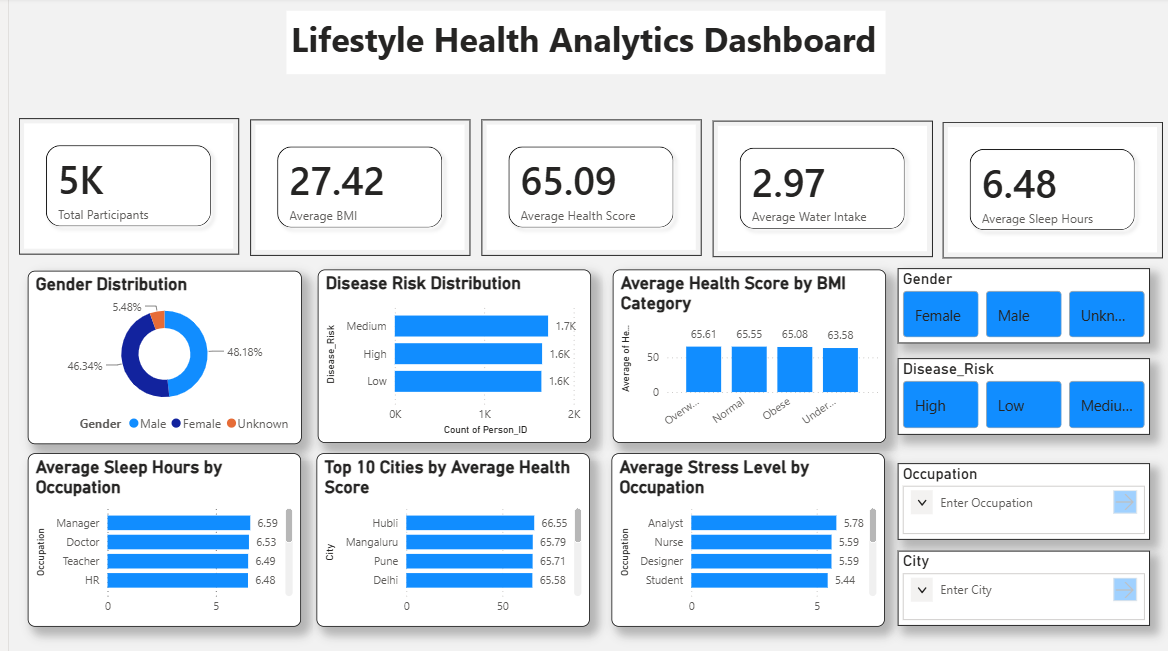

The page's visual inventory and layout, read from the dashboard file:
{"tool":"powerbi","page":{"name":"Executive Dashboard","canvas":[1280,720],"ordinal":0},"visuals":[{"type":"cardVisual","title":"Total Participants","fields":{"Data":["lifestyle_health chat.Total Participants"]},"box":[11,133.1,241.5,149.6],"z":0},{"type":"cardVisual","title":"Total Participants","fields":{"Data":["lifestyle_health chat.Average BMI"]},"box":[264.8,134.5,241.5,149.6],"z":1000},{"type":"cardVisual","title":"Total Participants","fields":{"Data":["lifestyle_health chat.Average Health Score"]},"box":[518.7,134.5,241.5,149.6],"z":2000},{"type":"cardVisual","title":"Total Participants","fields":{"Data":["lifestyle_health chat.Average Water Intake"]},"box":[772.6,135.8,241.5,149.6],"z":3000},{"type":"cardVisual","title":"Total Participants","fields":{"Data":["lifestyle_health chat.Average Sleep Hours"]},"box":[1025,137.2,241.5,149.6],"z":4000},{"type":"donutChart","title":"Gender Distribution","fields":{"Category":["lifestyle_health chat.Gender"],"Y":["CountNonNull(lifestyle_health chat.Gender)"]},"box":[20.6,300.5,300.5,190.7],"z":5000},{"type":"clusteredBarChart","title":"Disease Risk Distribution","fields":{"Category":["lifestyle_health chat.Disease_Risk"],"Y":["CountNonNull(lifestyle_health chat.Person_ID)"]},"box":[338.9,299.1,300,190.7],"z":6000},{"type":"clusteredColumnChart","title":"Average Health Score by BMI Category","fields":{"Category":["lifestyle_health chat.BMI_Category"],"Y":["Avg(lifestyle_health chat.Health_Score)"]},"box":[662.8,299.1,300,190.7],"z":7000},{"type":"clusteredBarChart","title":"Average Sleep Hours by Occupation","fields":{"Category":["lifestyle_health chat.Occupation"],"Y":["Avg(lifestyle_health chat.Sleep_Hours)"]},"box":[20.6,500.9,300,190],"z":8000},{"type":"clusteredBarChart","title":"Top 10 Cities by Average Health Score","fields":{"Category":["lifestyle_health chat.City"],"Y":["Avg(lifestyle_health chat.Health_Score)"]},"box":[338.9,500.9,300,190],"z":9000},{"type":"clusteredBarChart","title":"Average Stress Level by Occupation","fields":{"Category":["lifestyle_health chat.Occupation"],"Y":["Avg(lifestyle_health chat.Stress_Level)"]},"box":[661.4,500.9,300,190],"z":10000},{"type":"textbox","box":[304.6,15.1,657.3,70],"z":11000},{"type":"advancedSlicerVisual","fields":{"Values":["lifestyle_health chat.Gender"]},"box":[975.6,297.8,277.2,82.3],"z":12000},{"type":"advancedSlicerVisual","fields":{"Values":["lifestyle_health chat.Disease_Risk"]},"box":[975.6,396.6,277.2,83.7],"z":13000},{"type":"textSlicer","fields":{"Values":["lifestyle_health chat.Occupation"]},"box":[975.6,511.8,277.2,83.7],"z":14000},{"type":"textSlicer","fields":{"Values":["lifestyle_health chat.City"]},"box":[975.6,607.9,277.2,82.3],"z":15000}]}

Visuals, with their boxes in screenshot pixels (x1, y1, x2, y2), scaled from the page's 1280x720 canvas onto the 1168x651 screenshot:
"Total Participants" cardVisual: locate(10, 120, 230, 256)
"Total Participants" cardVisual: locate(242, 122, 462, 257)
"Total Participants" cardVisual: locate(473, 122, 694, 257)
"Total Participants" cardVisual: locate(705, 123, 925, 258)
"Total Participants" cardVisual: locate(935, 124, 1156, 259)
"Gender Distribution" donutChart: locate(19, 272, 293, 444)
"Disease Risk Distribution" clusteredBarChart: locate(309, 270, 583, 443)
"Average Health Score by BMI Category" clusteredColumnChart: locate(605, 270, 879, 443)
"Average Sleep Hours by Occupation" clusteredBarChart: locate(19, 453, 293, 625)
"Top 10 Cities by Average Health Score" clusteredBarChart: locate(309, 453, 583, 625)
"Average Stress Level by Occupation" clusteredBarChart: locate(604, 453, 877, 625)
textbox: locate(278, 14, 878, 77)
advancedSlicerVisual - lifestyle_health chat.Gender: locate(890, 269, 1143, 344)
advancedSlicerVisual - lifestyle_health chat.Disease_Risk: locate(890, 359, 1143, 434)
textSlicer - lifestyle_health chat.Occupation: locate(890, 463, 1143, 538)
textSlicer - lifestyle_health chat.City: locate(890, 550, 1143, 624)
